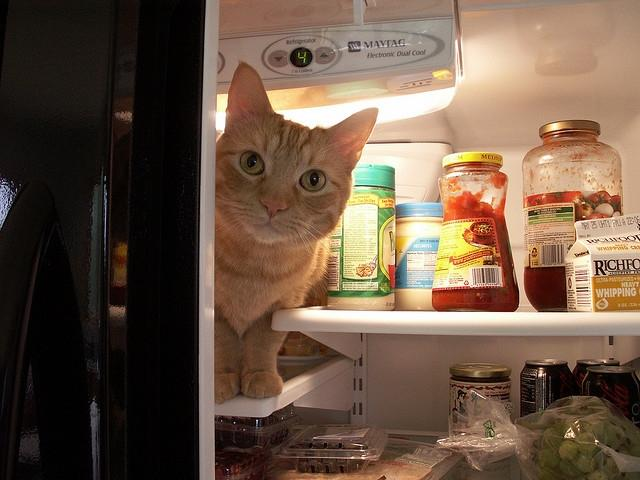blueberry: (322, 462, 335, 472), (305, 450, 317, 456), (334, 444, 338, 450)
grape: (570, 452, 596, 473), (574, 432, 597, 453), (562, 417, 583, 440), (538, 448, 562, 468), (606, 424, 625, 447), (536, 461, 558, 480), (558, 441, 578, 461), (582, 418, 606, 434), (560, 460, 583, 476), (624, 430, 640, 450), (570, 398, 588, 415), (586, 397, 605, 413), (586, 469, 610, 480), (597, 466, 615, 480), (614, 465, 630, 480), (544, 428, 562, 441), (595, 450, 611, 464), (599, 409, 615, 420), (543, 412, 555, 425), (541, 436, 550, 450), (629, 446, 640, 457), (562, 400, 574, 407), (618, 446, 629, 451)
